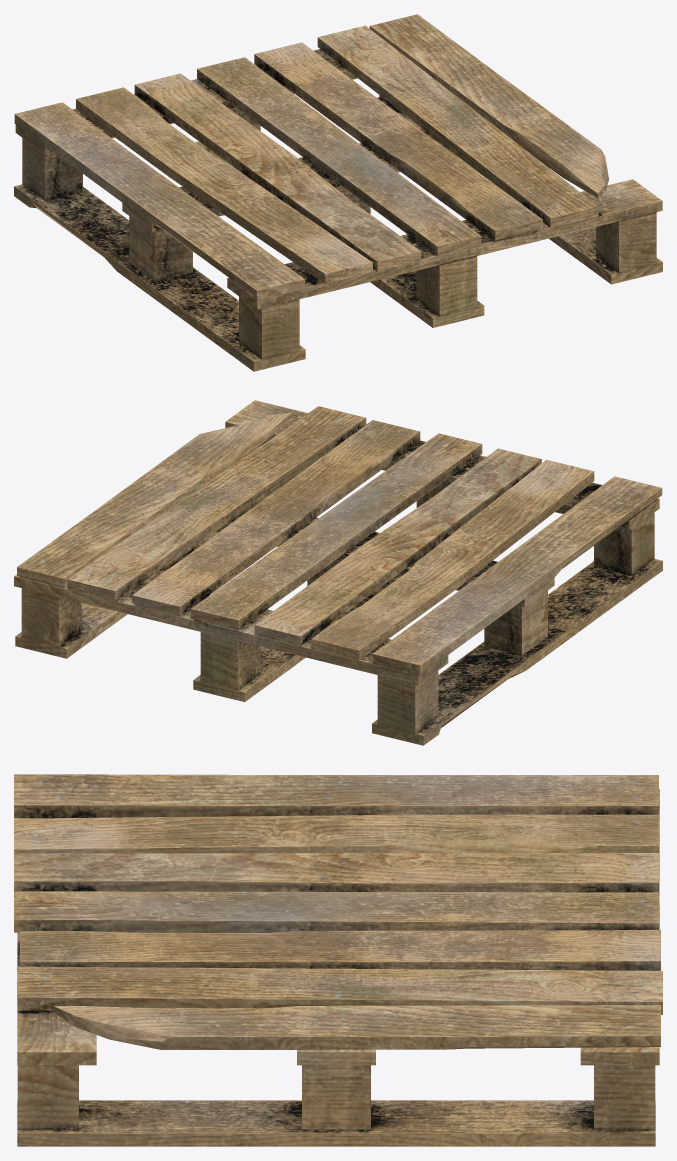
File: pallet_2.fbx
3 views of the same model, one above another, from view 1: azimuth 30°, elevation 25°; view 2: azimuth 150°, elevation 25°; view 3: azimuth 270°, elevation 25° (orthographic). The views are drawn at different scales.
Visible parts, largest first — view 1: Pallet_pt.002; view 2: Pallet_pt.002; view 3: Pallet_pt.002.
Boxes of the visible parts, x1=… form: Pallet_pt.002: x1=14, y1=14, x2=662, y2=371; Pallet_pt.002: x1=14, y1=400, x2=662, y2=745; Pallet_pt.002: x1=14, y1=774, x2=662, y2=1146.
Bounding box in the file's own units: 99.83 × 19.15 × 103.
